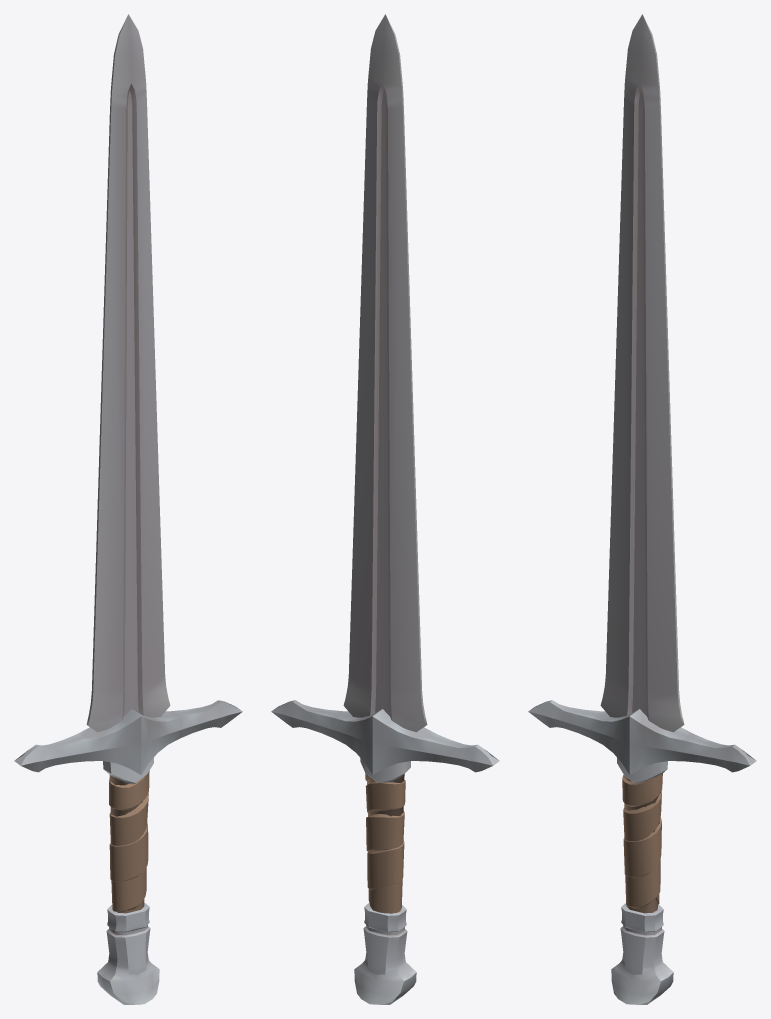
The model's file is Sword_Bronze.glb.
3 renders of one model, left to right at view 1: azimuth 30°, elevation 25°; view 2: azimuth 150°, elevation 25°; view 3: azimuth 330°, elevation 25°, orthographic.
Visible parts, largest first — view 1: Sword_Bronze; view 2: Sword_Bronze; view 3: Sword_Bronze.
Boxes of the visible parts, <box> form: Sword_Bronze: <box>14,14,242,1004</box>; Sword_Bronze: <box>271,14,499,1004</box>; Sword_Bronze: <box>528,14,756,1004</box>.
Bounding box in the file's own units: 0.2666 × 1.13 × 0.0654.
